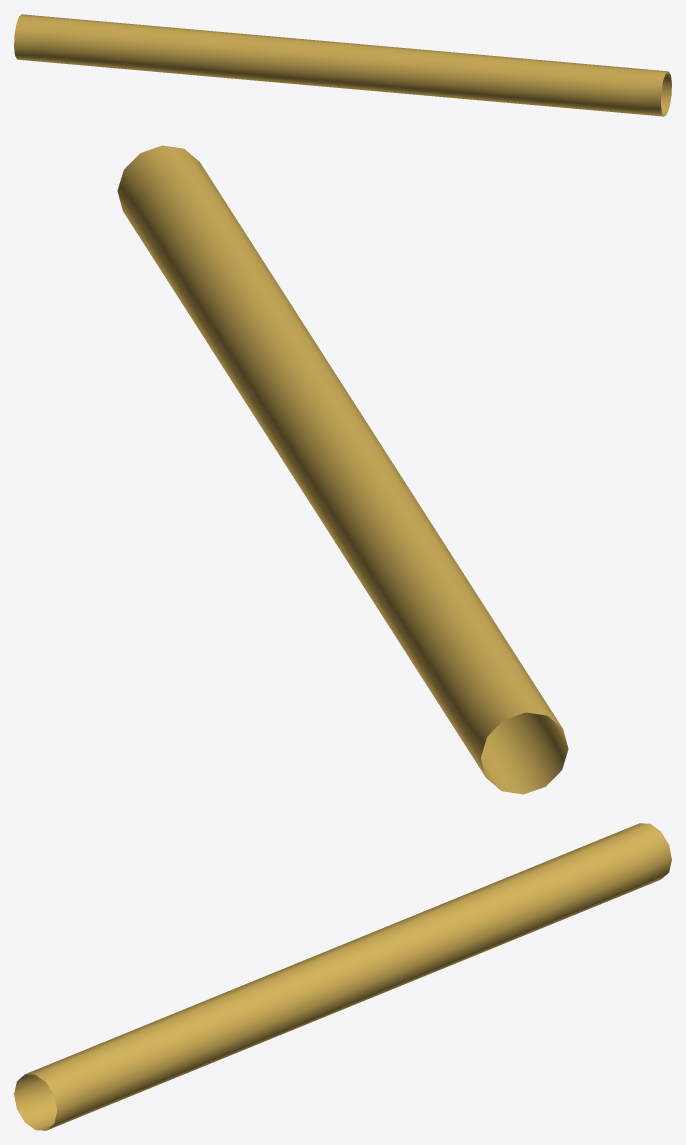
3 renders of one model, top to bottom at view 1: azimuth 30°, elevation 25°; view 2: azimuth 150°, elevation 25°; view 3: azimuth 270°, elevation 25°, orthographic. The views are drawn at different scales.
Visible parts, largest first — view 1: 右侧臂丛后束; view 2: 右侧臂丛后束; view 3: 右侧臂丛后束.
Part boxes in pixels (x1=…): 右侧臂丛后束: x1=14, y1=14, x2=671, y2=116; 右侧臂丛后束: x1=117, y1=145, x2=568, y2=794; 右侧臂丛后束: x1=14, y1=823, x2=671, y2=1130.
Size of the model in its own units: 0.0329 by 0.00381 by 0.0322.
